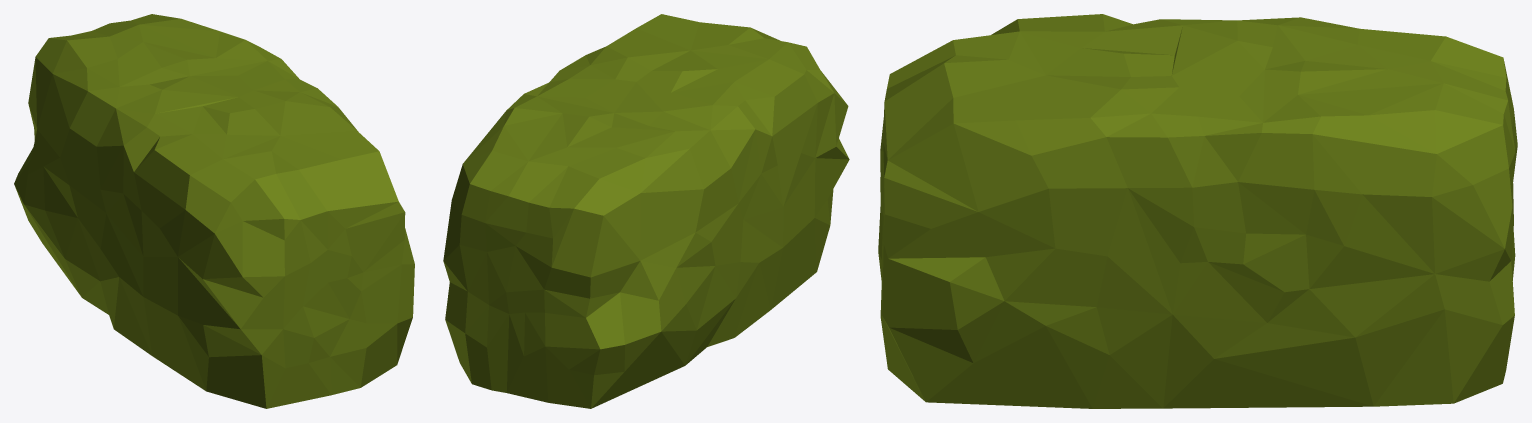
File: Hedge2x1_GameJamAssets.fbx
3 renders of one model, left to right at view 1: azimuth 30°, elevation 25°; view 2: azimuth 150°, elevation 25°; view 3: azimuth 270°, elevation 25°, orthographic. The views are drawn at different scales.
Parts seen in each view (by area): view 1: Hedge 2x1; view 2: Hedge 2x1; view 3: Hedge 2x1.
Part boxes in pixels (x1,y1,x2,y2): Hedge 2x1: (14,14,414,408); Hedge 2x1: (443,14,849,408); Hedge 2x1: (878,14,1517,408).
Bounding box in the file's own units: 100 × 100 × 200.
